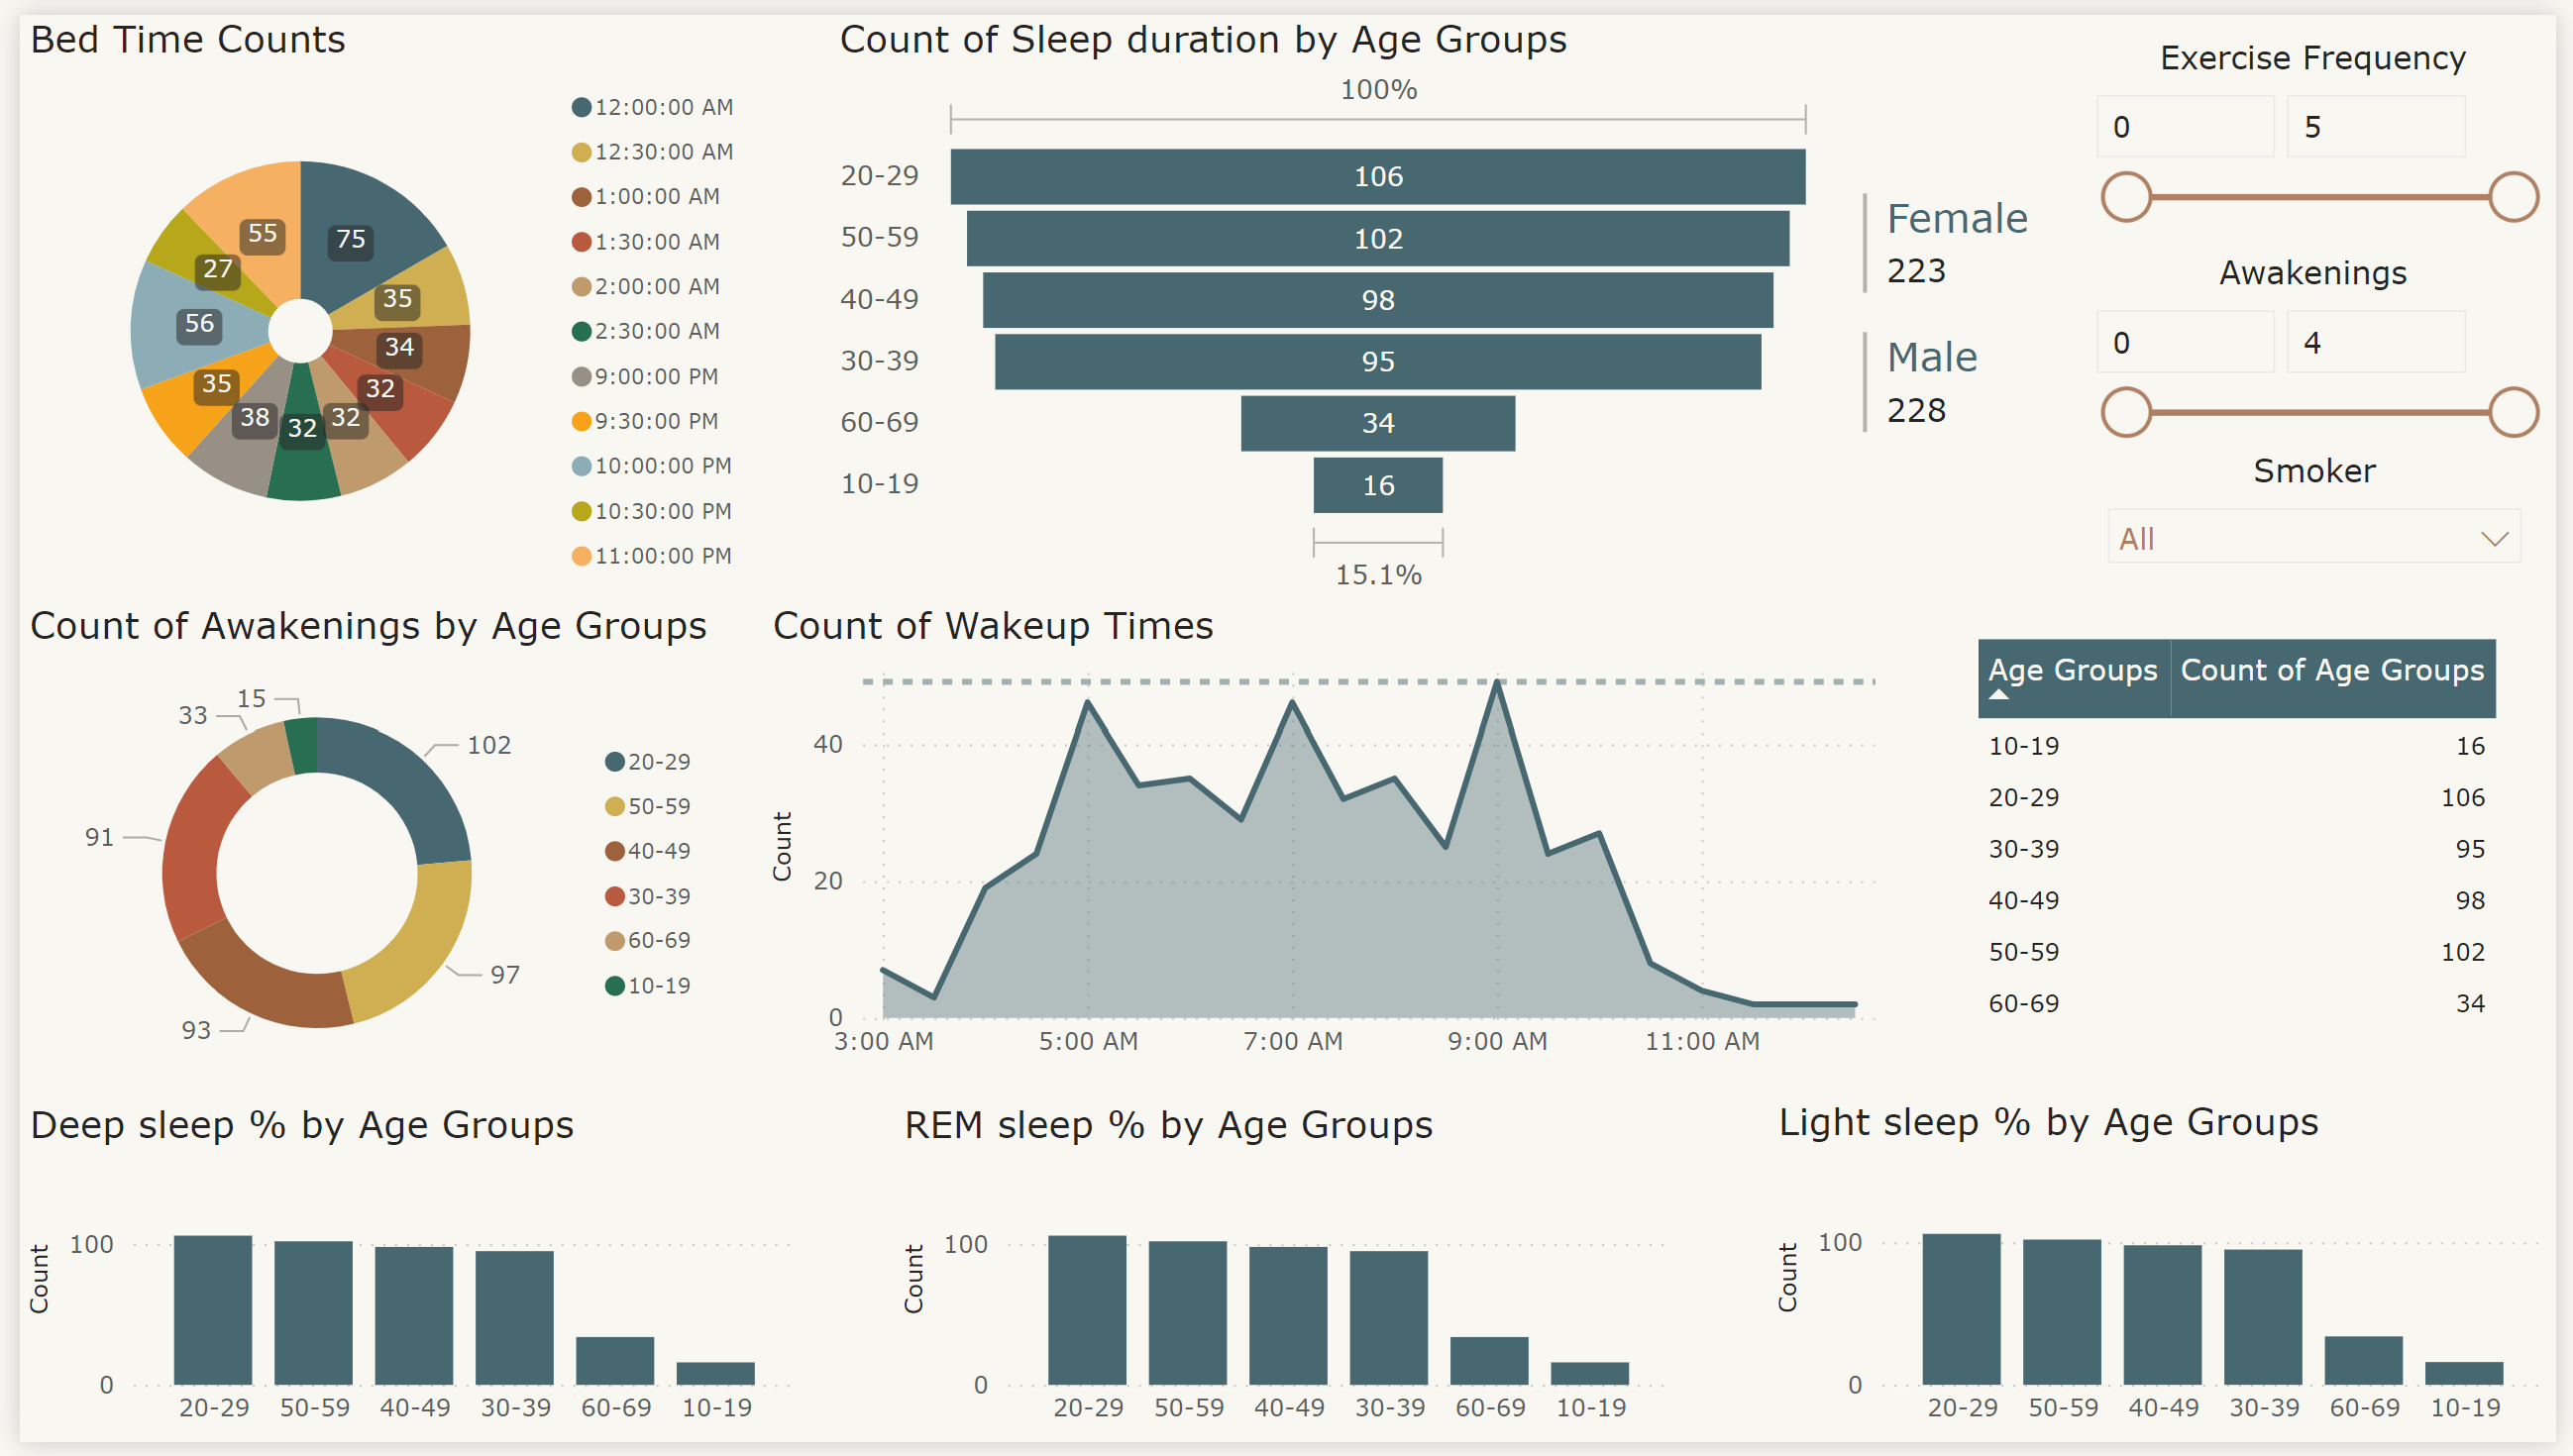

The page's visual inventory and layout, read from the dashboard file:
{"tool":"powerbi","page":{"name":"Dashboard","canvas":[1280,720],"ordinal":7},"visuals":[{"type":"multiRowCard","title":"Gender Distribution","fields":{"Values":["Sleep Efficiency.Gender","CountNonNull(Sleep Efficiency.Gender)"]},"box":[925,85,98.8,166.2],"z":0},{"type":"pieChart","title":"Bed Time Counts","fields":{"Category":["Sleep Efficiency.Bed Time"],"Y":["CountNonNull(Sleep Efficiency.Bed Time)"]},"box":[0,0,375,296.2],"z":1000},{"type":"areaChart","title":"Count of Wakeup Times","fields":{"Category":["Sleep Efficiency.Wakeup Time"],"Y":["CountNonNull(Sleep Efficiency.Wakeup Time)"]},"box":[375,296.2,586.2,238.8],"z":2000},{"type":"tableEx","title":"Count by Age Group","fields":{"Values":["Sleep Efficiency.Age (groups)","CountNonNull(Sleep Efficiency.Age (groups))"]},"box":[982.8,310.5,278.7,223.7],"z":3000},{"type":"donutChart","title":"Count of Awakenings by Age Groups","fields":{"Category":["Sleep Efficiency.Age (groups)"],"Y":["CountNonNull(Sleep Efficiency.Awakenings)"]},"box":[0,296.2,353.8,250],"z":4000},{"type":"clusteredColumnChart","title":"Light sleep % by Age Groups ","fields":{"Category":["Sleep Efficiency.Age (groups)"],"Y":["CountNonNull(Sleep Efficiency.Light sleep percentage)"]},"box":[882.5,546.2,397.5,173.8],"z":5000},{"type":"clusteredColumnChart","title":"REM sleep % by Age Groups ","fields":{"Y":["CountNonNull(Sleep Efficiency.REM sleep percentage)"],"Category":["Sleep Efficiency.Age (groups)"]},"box":[441.2,547.5,397.5,172.5],"z":6000},{"type":"clusteredColumnChart","title":"Deep sleep % by Age Groups ","fields":{"Category":["Sleep Efficiency.Age (groups)"],"Y":["CountNonNull(Sleep Efficiency.Deep sleep percentage)"]},"box":[0,547.5,397.5,172.5],"z":7000},{"type":"slicer","title":"Smoker","fields":{"Values":["Sleep Efficiency.Smoker"]},"box":[1043.8,220,228.8,90],"z":8000},{"type":"slicer","title":"Exercise Frequency","fields":{"Values":["Sleep Efficiency.Exercise frequency"]},"box":[1035,11.2,245,97.5],"z":9000},{"type":"slicer","title":"Awakenings","fields":{"Values":["Sleep Efficiency.Awakenings"]},"box":[1035,120,245,97.5],"z":10000},{"type":"funnel","title":"Count of Sleep duration by Age Groups","fields":{"Category":["Sleep Efficiency.Age (groups)"],"Y":["CountNonNull(Sleep Efficiency.Sleep duration)"]},"box":[408.8,0,502.5,296.2],"z":11000}]}

Visuals, with their boxes in screenshot pixels (x1, y1, x2, y2), scaled from the page's 1280x720 canvas onto the 2573x1456 screenshot:
"Gender Distribution" multiRowCard: 1860,172,2058,508
"Bed Time Counts" pieChart: 0,0,754,599
"Count of Wakeup Times" areaChart: 754,599,1932,1082
"Count by Age Group" tableEx: 1976,628,2535,1081
"Count of Awakenings by Age Groups" donutChart: 0,599,711,1104
"Light sleep % by Age Groups " clusteredColumnChart: 1774,1104,2572,1455
"REM sleep % by Age Groups " clusteredColumnChart: 887,1107,1686,1455
"Deep sleep % by Age Groups " clusteredColumnChart: 0,1107,799,1455
"Smoker" slicer: 2098,445,2558,627
"Exercise Frequency" slicer: 2081,23,2572,220
"Awakenings" slicer: 2081,243,2572,440
"Count of Sleep duration by Age Groups" funnel: 821,0,1832,599
